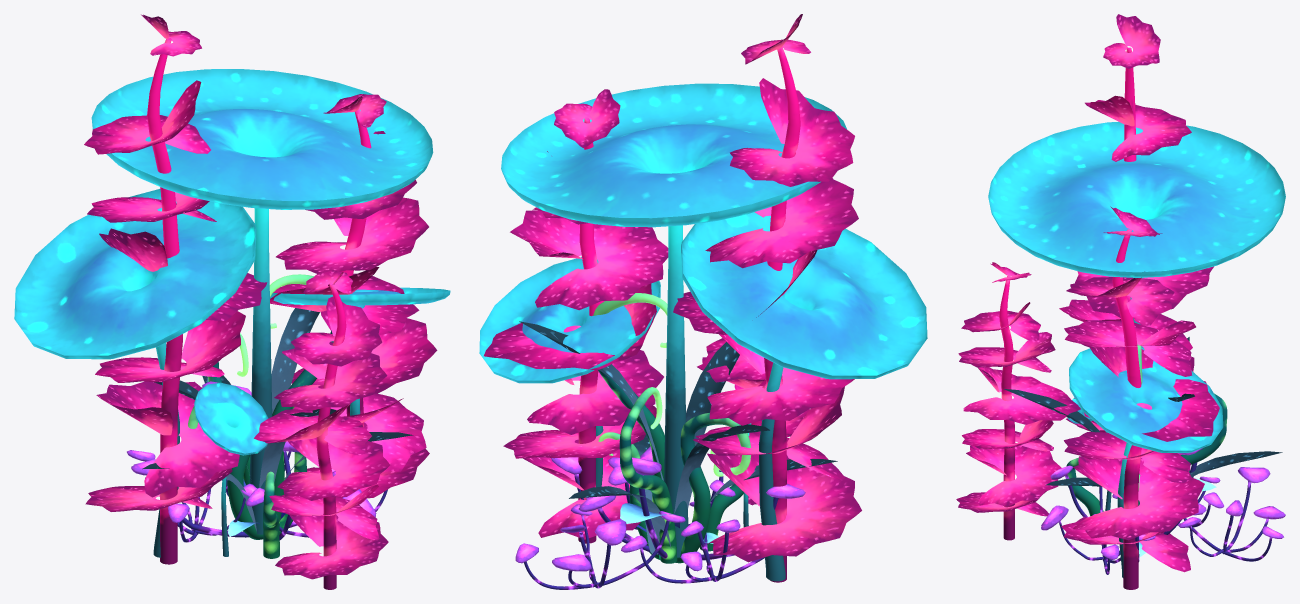
The model's file is plantas.fbx.
3 views of the same model, side by side, from view 1: azimuth 30°, elevation 25°; view 2: azimuth 150°, elevation 25°; view 3: azimuth 270°, elevation 25° (orthographic). The views are drawn at different scales.
Visible parts, largest first — view 1: planta_2, planta_1, planta_3, planta_6, planta_4; view 2: planta_1, planta_2, planta_4, planta_3, planta_6, planta_7; view 3: planta_2, planta_1, planta_4, planta_6, planta_3.
Part boxes in pixels (<box>): planta_2: <box>84,14,437,589</box>; planta_1: <box>14,69,450,557</box>; planta_3: <box>188,274,333,558</box>; planta_6: <box>142,308,413,530</box>; planta_4: <box>127,381,387,542</box>; planta_1: <box>479,83,927,581</box>; planta_2: <box>484,14,861,582</box>; planta_4: <box>515,446,805,589</box>; planta_3: <box>593,293,750,563</box>; planta_6: <box>519,321,837,554</box>; planta_7: <box>620,503,718,543</box>; planta_2: <box>956,14,1219,589</box>; planta_1: <box>988,121,1285,578</box>; planta_4: <box>1041,447,1285,574</box>; planta_6: <box>1004,337,1282,486</box>; planta_3: <box>1066,344,1227,516</box>.
Size of the model in its own units: 402 by 526 by 323.
